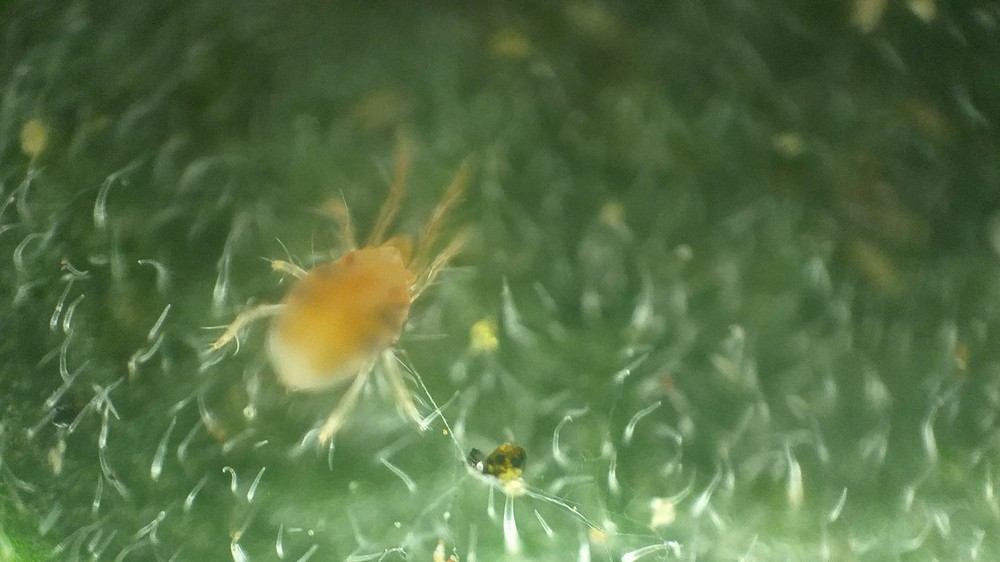Aracnido Rojo: (202, 136, 485, 477)
